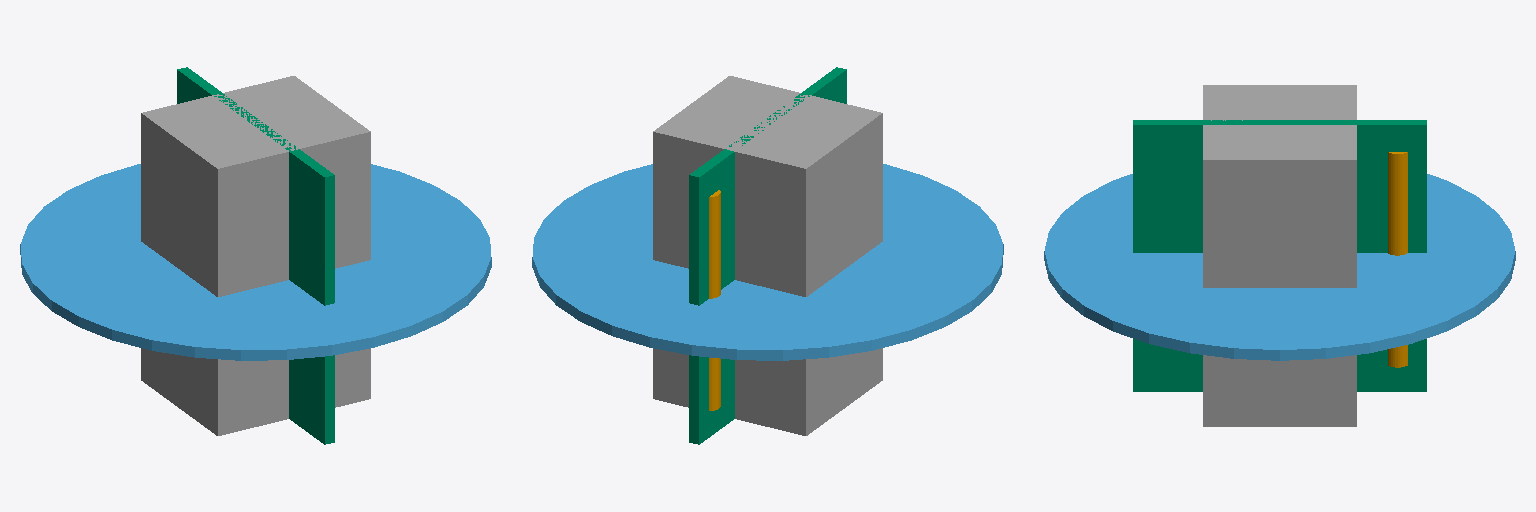
The robot description file, URDF, robot "artpark":
<?xml version="1.0"?>
<robot name='artpark'>
  <link name="base_link">
  </link>
  <link name="link_1">
    <inertial>
        <mass value="100" />
        <inertia ixx="4" ixy="0.0" ixz="0.0" iyy="4" iyz="0.0" izz="2"/>
    </inertial>
    <collision>
      <geometry>
        <cylinder radius="0.2" length="0.01" />
      </geometry>
        </collision>
    <visual>
      <geometry>
        <cylinder radius="0.2" length="0.01" />
      </geometry>
    </visual>
  </link>
  <link name="link_1_1">
    <inertial>
        <mass value="0.02" />
        <inertia ixx="0.00333333" ixy="0.0" ixz="0.0" iyy="0.00333333" iyz="0.0" izz="0.00333333"/>
    </inertial>
    <visual>
      <geometry>
        <box size="0.01 0.25 0.25" />
      </geometry>
    </visual>
    <collision>
      <geometry>
        <box size="0.01 0.25 0.25" />
      </geometry>
    </collision>
  </link>
  <link name="link_2">
    <inertial>
        <mass value="0.1" />
        <inertia ixx="0.0145833" ixy="0.0" ixz="0.0" iyy="0.0145833" iyz="0.0" izz="0.0125"/>
    </inertial>
    <collision>
      <geometry>
        <cylinder radius="0.02" length="0.15" />
      </geometry>
        </collision>
    <visual>
      <geometry>
        <cylinder radius="0.02" length="0.15" />
      </geometry>
    </visual>
  </link>
  <link name="link_2_clone">
    <inertial>
        <mass value="0.01" />
        <inertia ixx="0.00145833" ixy="0.0" ixz="0.0" iyy="0.00145833" iyz="0.0" izz="0.00125"/>
    </inertial>
    <collision>
      <geometry>
        <cylinder radius="0.01" length="0.02" />
      </geometry>
        </collision>
    <visual>
      <geometry>
        <cylinder radius="0.01" length="0.02" />
      </geometry>
    </visual>
  </link>
  <link name="link_2_clone_clone">
    <inertial>
        <mass value="0.01" />
        <inertia ixx="0.00145833" ixy="0.0" ixz="0.0" iyy="0.00145833" iyz="0.0" izz="0.00125"/>
    </inertial>
    <collision>
      <geometry>
        <cylinder radius="0.01" length="0.02" />
      </geometry>
        </collision>
    <visual>
      <geometry>
        <cylinder radius="0.01" length="0.02" />
      </geometry>
    </visual>
  </link>
  <link name="link_3_0">
    <inertial>
        <mass value="0.01" />
        <inertia ixx="0.00166667" ixy="0.0" ixz="0.0" iyy="0.00166667" iyz="0.0" izz="0.00166667"/>
    </inertial>
    <visual>
      <geometry>
        <box size="0.1 0.01 0.05" />
      </geometry>
    </visual>
    <collision>
      <geometry>
        <box size="0.1 0.01 0.05" />
      </geometry>
    </collision>
  </link>
  <joint name="robot_manipulator" type="revolute">
     <parent link="base_link"/>
     <child link="link_1"/>
     <axis xyz="0 0 1"/>
     <limit
       lower="-3.14"
       upper="3.14"
       effort="100"
       velocity="0.5" />
   </joint>
  <link name='link_3'>
    <inertial>
      <mass value="10"/>
      <inertia ixx="01.66667" ixy="0" ixz="0" iyy="01.66667" iyz="0" izz="01.66667" />
    </inertial>
    <visual>
      <geometry>
        <box size="0.15 0.13 0.25" />
      </geometry>
    </visual>
    <collision>
      <geometry>
        <box size="0.15 0.13 0.25" />
      </geometry>
    </collision>
  </link>
  <joint name="link_3_JOINT_1" type="fixed">
     <parent link="link_3"/>
     <child link="link_1_1"/>
   </joint>
  <joint name="link_1_JOINT_1" type="prismatic">
     <origin xyz="0 0 0.0" rpy="0 0 0" />
     <parent link="link_1"/>
     <child link="link_3"/>
    <axis xyz="0 0 1"/>
    <limit
      lower="-0.5"
      upper="0.5"
      effort="1000"
      velocity="1" />
   </joint>
  <joint name="link_1_1_JOINT_12" type="revolute">
     <parent link="link_1_1"/>
     <child link="link_2"/>
    <axis xyz="1 0 0"/>
    <limit
      lower="-3.14"
      upper="3.14"
      effort="100"
      velocity="1" />
   </joint>
  <joint name="link_2_JOINT_13" type="revolute">
     <parent link="link_2"/>
     <child link="link_3_0"/>
    <axis xyz="0 0 1"/>
    <limit
      lower="-0.8"
      upper="0.3"
      effort="100"
      velocity="1" />
   </joint>
  <joint name="link_2_JOINT_16" type="continuous">
     <parent link="link_2"/>
     <child link="link_2_clone"/>
    <axis xyz="0 0 -1"/>
   </joint>
  <joint name="link_2_JOINT_17" type="continuous">
     <parent link="link_2"/>
     <child link="link_2_clone_clone"/>
    <axis xyz="0 0 1"/>
   </joint>



  <link name='link_6_clone_clone_0'>
    <inertial>
      <mass value="0.1"/>
      <inertia ixx="0.0145833" ixy="0" ixz="0" iyy="0.0145833" iyz="0" izz="0.0125" />
    </inertial>
    <visual>
      <geometry>
        <cylinder radius="0.01" length="0.2"/>
      </geometry>
    </visual>

    <collision>
      <geometry>
        <cylinder radius="0.01" length="0.2"/>
      </geometry>
    </collision>
  </link>

  <joint name="link_3_JOINT_39" type="revolute">
    <parent link="link_3"/>
    <child link="link_6_clone_clone_0" />
    <axis xyz="0 1 0"/>
    <origin xyz="-0 0.1 -0" rpy="0.0 0.0 0.0"/>
    <limit
      lower="-2"
      upper="2"
      effort="300"
      velocity="1" />
  </joint>



  <link name='link_6_clone_clone_0_clone'>
    <inertial>
      <mass value="0.1"/>
      <inertia ixx="0.0145833" ixy="0" ixz="0" iyy="0.0145833" iyz="0" izz="0.0125" />
    </inertial>
    <!-- <pose frame=''>1.5 0.67 0.2 0 0.785 0</pose> -->
    <visual>
      <pose frame=''>0 0 0 0 -0 0</pose>
      <geometry>
        <cylinder radius="0.01" length="0.2"/>
      </geometry>
    </visual>
    <collision>
      <geometry>
        <cylinder radius="0.01" length="0.2"/>
      </geometry>
    </collision>
  </link>

 <joint name="link_3_JOINT_38" type="revolute">
    <parent link="link_3"/>
    <child link="link_6_clone_clone_0_clone"/>
    <axis xyz="0 1 0"/>
    <origin xyz="-0 0.1 -0" rpy="0.0 0.0 0.0"/>
    <limit
      lower="-2"
      upper="2"
      effort="300"
      velocity="1"/>
  </joint>




  <link name='link_6_clone_0_clone_clone_clone_0'>
    <inertial>
      <mass value="0.1"/>
      <inertia ixx="0.0145833" ixy="0" ixz="0" iyy="0.0145833" iyz="0" izz="0.0125" />
    </inertial>
    <visual>
      <geometry>
        <cylinder radius="0.01" length="0.2"/>
      </geometry>
    </visual>

    <collision>
      <geometry>
        <cylinder radius="0.01" length="0.2"/>
      </geometry>
    </collision>
  </link>

  <joint name="link_6_clone_0_clone_clone_JOINT_1" type="prismatic">
    <parent link="link_6_clone_clone_0"/>
    <child link="link_6_clone_0_clone_clone_clone_0" />
    <axis xyz="0 0 1"/>
    <!-- <origin xyz="-0 0.1 -0" rpy="0.0 0.0 0.0"/> -->
    <limit
      lower="-0.15"
      upper="0.15"
      effort="10"
      velocity="1" />
  </joint>



  <link name='link_6_clone_0_clone_clone_clone_0_clone'>
    <inertial>
      <mass value="0.1"/>
      <inertia ixx="0.0145833" ixy="0" ixz="0" iyy="0.0145833" iyz="0" izz="0.0125" />
    </inertial>
    <!-- <pose frame=''>1.5 0.67 0.2 0 0.785 0</pose> -->
    <visual>
      <pose frame=''>0 0 0 0 -0 0</pose>
      <geometry>
        <cylinder radius="0.01" length="0.2"/>
      </geometry>
    </visual>
    <collision>
      <geometry>
        <cylinder radius="0.01" length="0.2"/>
      </geometry>
    </collision>
  </link>

 <joint name="link_6_clone_0_clone_clone_clone_JOINT_8" type="prismatic">
    <parent link="link_6_clone_clone_0_clone"/>
    <child link="link_6_clone_0_clone_clone_clone_0_clone"/>
    <axis xyz="0 0 1"/>
    <!-- <origin xyz="-0 0.1 -0" rpy="0.0 0.0 0.0"/> -->
    <limit
      lower="-0.15"
      upper="0.15"
      effort="10"
      velocity="1"/>
  </joint>




  <link name='link_6_clone_clone_clone_clone_clone_0'>
    <inertial>
      <mass value="0.1"/>
      <inertia ixx="0.0145833" ixy="0" ixz="0" iyy="0.0145833" iyz="0" izz="0.0125" />
    </inertial>
    <visual>
      <geometry>
        <cylinder radius="0.01" length="0.2"/>
      </geometry>
    </visual>

    <collision>
      <geometry>
        <cylinder radius="0.01" length="0.2"/>
      </geometry>
    </collision>
  </link>

  <joint name="link_6_clone_clone_clone_clone_JOINT_2" type="prismatic">
    <parent link="link_6_clone_clone_0"/>
    <child link="link_6_clone_clone_clone_clone_clone_0" />
    <axis xyz="0 0 1"/>
    <!-- <origin xyz="-0 0.1 -0" rpy="0.0 0.0 0.0"/> -->
    <limit
      lower="-0.15"
      upper="0.15"
      effort="10"
      velocity="1" />
  </joint>



  <link name='link_6_clone_clone_clone_clone_clone_0_clone'>
    <inertial>
      <mass value="0.1"/>
      <inertia ixx="0.0145833" ixy="0" ixz="0" iyy="0.0145833" iyz="0" izz="0.0125" />
    </inertial>
    <!-- <pose frame=''>1.5 0.67 0.2 0 0.785 0</pose> -->
    <visual>
      <pose frame=''>0 0 0 0 -0 0</pose>
      <geometry>
        <cylinder radius="0.01" length="0.2"/>
      </geometry>
    </visual>
    <collision>
      <geometry>
        <cylinder radius="0.01" length="0.2"/>
      </geometry>
    </collision>
  </link>

 <joint name="link_6_clone_clone_clone_clone_clone_JOINT_9" type="prismatic">
    <parent link="link_6_clone_clone_0_clone"/>
    <child link="link_6_clone_clone_clone_clone_clone_0_clone"/>
    <axis xyz="0 0 1"/>
    <!-- <origin xyz="-0 0.1 -0" rpy="0.0 0.0 0.0"/> -->
    <limit
      lower="-0.15"
      upper="0.15"
      effort="10"
      velocity="1"/>
  </joint>

  <joint name="kinect_base" type="fixed">
    <parent link="base_link"/>
    <child link="camera_link"/>
    <origin xyz="1.70 0.57 0.2" rpy="-1.57 0 -1.57"/>
  </joint>

  <link name="camera_link"/>

  <transmission name="stem">
    <type>transmission_interface/SimpleTransmission</type>
    <joint name="robot_manipulator">
      <hardwareInterface>hardware_interface/EffortJointInterface</hardwareInterface>
    </joint>
    <actuator name="motor_stem">
      <hardwareInterface>hardware_interface/EffortJointInterface</hardwareInterface>
      <mechanicalReduction>1</mechanicalReduction>
    </actuator>
  </transmission>

  <transmission name="tran0">
    <type>transmission_interface/SimpleTransmission</type>
    <joint name="link_1_JOINT_1">
      <hardwareInterface>hardware_interface/EffortJointInterface</hardwareInterface>
    </joint>
    <actuator name="motor0">
      <hardwareInterface>hardware_interface/EffortJointInterface</hardwareInterface>
      <mechanicalReduction>1</mechanicalReduction>
    </actuator>
  </transmission>
  <transmission name="tran1">
    <type>transmission_interface/SimpleTransmission</type>
    <joint name="link_3_JOINT_38">
      <hardwareInterface>hardware_interface/EffortJointInterface</hardwareInterface>
    </joint>
    <actuator name="motor1">
      <hardwareInterface>hardware_interface/EffortJointInterface</hardwareInterface>
      <mechanicalReduction>1</mechanicalReduction>
    </actuator>
  </transmission>
  <transmission name="tran2">
    <type>transmission_interface/SimpleTransmission</type>
    <joint name="link_3_JOINT_39">
      <hardwareInterface>hardware_interface/EffortJointInterface</hardwareInterface>
    </joint>
    <actuator name="motor2">
      <hardwareInterface>hardware_interface/EffortJointInterface</hardwareInterface>
      <mechanicalReduction>1</mechanicalReduction>
    </actuator>
  </transmission>
  <transmission name="tran3">
    <type>transmission_interface/SimpleTransmission</type>
    <joint name="link_1_1_JOINT_12">
      <hardwareInterface>hardware_interface/EffortJointInterface</hardwareInterface>
    </joint>
    <actuator name="motor3">
      <hardwareInterface>hardware_interface/EffortJointInterface</hardwareInterface>
      <mechanicalReduction>1</mechanicalReduction>
    </actuator>
  </transmission>
  <transmission name="tran4">
    <type>transmission_interface/SimpleTransmission</type>
    <joint name="link_2_JOINT_16">
      <hardwareInterface>hardware_interface/EffortJointInterface</hardwareInterface>
    </joint>
    <actuator name="motor4">
      <hardwareInterface>hardware_interface/EffortJointInterface</hardwareInterface>
      <mechanicalReduction>1</mechanicalReduction>
    </actuator>
  </transmission>
  <transmission name="tran5">
    <type>transmission_interface/SimpleTransmission</type>
    <joint name="link_2_JOINT_17">
      <hardwareInterface>hardware_interface/EffortJointInterface</hardwareInterface>
    </joint>
    <actuator name="motor5">
      <hardwareInterface>hardware_interface/EffortJointInterface</hardwareInterface>
      <mechanicalReduction>1</mechanicalReduction>
    </actuator>
  </transmission>
  <transmission name="tran6">
    <type>transmission_interface/SimpleTransmission</type>
    <joint name="link_2_JOINT_13">
      <hardwareInterface>hardware_interface/EffortJointInterface</hardwareInterface>
    </joint>
    <actuator name="motor6">
      <hardwareInterface>hardware_interface/EffortJointInterface</hardwareInterface>
      <mechanicalReduction>1</mechanicalReduction>
    </actuator>
  </transmission>
  <transmission name="tran7">
    <type>transmission_interface/SimpleTransmission</type>
    <joint name="link_6_clone_0_clone_clone_JOINT_1">
      <hardwareInterface>hardware_interface/EffortJointInterface</hardwareInterface>
    </joint>
    <actuator name="motor7">
      <hardwareInterface>hardware_interface/EffortJointInterface</hardwareInterface>
      <mechanicalReduction>1</mechanicalReduction>
    </actuator>
  </transmission>
  <!-- <transmission name="tran8">
    <type>transmission_interface/SimpleTransmission</type>
    <joint name="link_6_clone_0_clone_clone_clone_JOINT_8">
      <hardwareInterface>hardware_interface/EffortJointInterface</hardwareInterface>
    </joint>
    <actuator name="motor8">
      <hardwareInterface>hardware_interface/EffortJointInterface</hardwareInterface>
      <mechanicalReduction>1</mechanicalReduction>
    </actuator>
  </transmission>
  <transmission name="tran9">
    <type>transmission_interface/SimpleTransmission</type>
    <joint name="link_6_clone_clone_clone_clone_JOINT_2">
      <hardwareInterface>hardware_interface/EffortJointInterface</hardwareInterface>
    </joint>
    <actuator name="motor9">
      <hardwareInterface>hardware_interface/EffortJointInterface</hardwareInterface>
      <mechanicalReduction>1</mechanicalReduction>
    </actuator>
  </transmission>
  <transmission name="tran10">
    <type>transmission_interface/SimpleTransmission</type>
    <joint name="link_6_clone_clone_clone_clone_clone_JOINT_9">
      <hardwareInterface>hardware_interface/EffortJointInterface</hardwareInterface>
    </joint>
    <actuator name="motor10">
      <hardwareInterface>hardware_interface/EffortJointInterface</hardwareInterface>
      <mechanicalReduction>1</mechanicalReduction>
    </actuator>
  </transmission> -->


  <gazebo>
    <plugin name="gazebo_ros_control" filename="libgazebo_ros_control.so">
      <robotNamespace>/artpark</robotNamespace>
    </plugin>
  </gazebo>
</robot>

--- Render facts (derived) ---
The picture shows the robot from 3 angles, left to right: view 1: azimuth 30°, elevation 25°; view 2: azimuth 150°, elevation 25°; view 3: azimuth 270°, elevation 25°; orthographic projection.
Robot: artpark — 15 links, 14 joints (5 revolute, 2 continuous, 5 prismatic, 2 fixed); root link base_link; default pose: every joint at zero.
Links seen in each view (by area): view 1: link_1, link_3, link_1_1; view 2: link_1, link_3, link_1_1, link_6_clone_clone_0; view 3: link_1, link_3, link_1_1, link_6_clone_clone_0.
Boxes of the visible links, x1,y1,x2,y2 form: link_1: [20, 164, 491, 360]; link_3: [141, 76, 370, 435]; link_1_1: [177, 67, 334, 444]; link_1: [532, 164, 1003, 360]; link_3: [653, 76, 882, 435]; link_1_1: [689, 67, 846, 444]; link_6_clone_clone_0: [709, 190, 720, 410]; link_1: [1044, 174, 1515, 360]; link_3: [1203, 85, 1356, 426]; link_1_1: [1133, 120, 1426, 391]; link_6_clone_clone_0: [1388, 152, 1407, 367].
Size in the robot's own frame: 0.4 by 0.4 by 0.25 metres.
Geometry: primitives only (box / cylinder / sphere), no mesh files.
